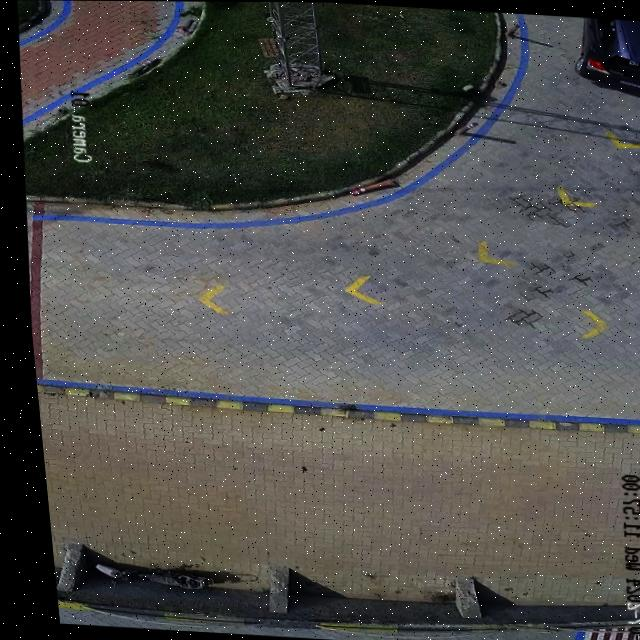car: (574, 17, 640, 97)
